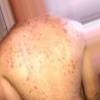Acne: (7, 45, 29, 66), (55, 21, 79, 36), (67, 57, 84, 73)
